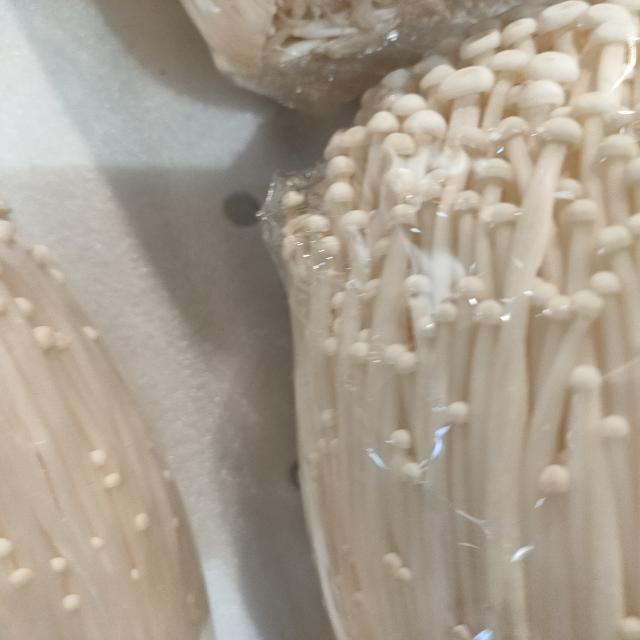Flammulina velutiper: (278, 4, 640, 639), (0, 192, 216, 635)
